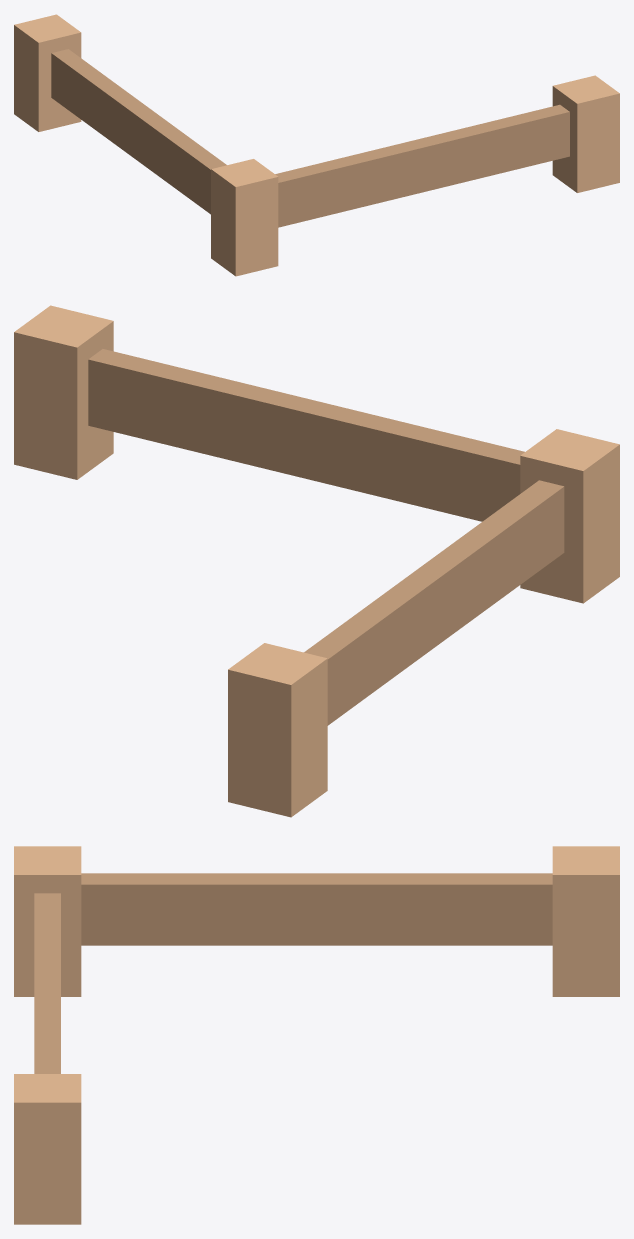
The picture shows the model from 3 angles, top to bottom: view 1: azimuth 30°, elevation 25°; view 2: azimuth 150°, elevation 25°; view 3: azimuth 270°, elevation 25°; orthographic projection. The views are drawn at different scales.
Visible parts, largest first — view 1: fenceLowCorner; view 2: fenceLowCorner; view 3: fenceLowCorner.
Boxes of the visible parts, left/top/right/bottom form: fenceLowCorner: left=14, top=14, right=619, bottom=276; fenceLowCorner: left=14, top=305, right=619, bottom=817; fenceLowCorner: left=14, top=846, right=619, bottom=1224.
Bounding box in the file's own units: 0.9 × 0.2 × 0.9.
